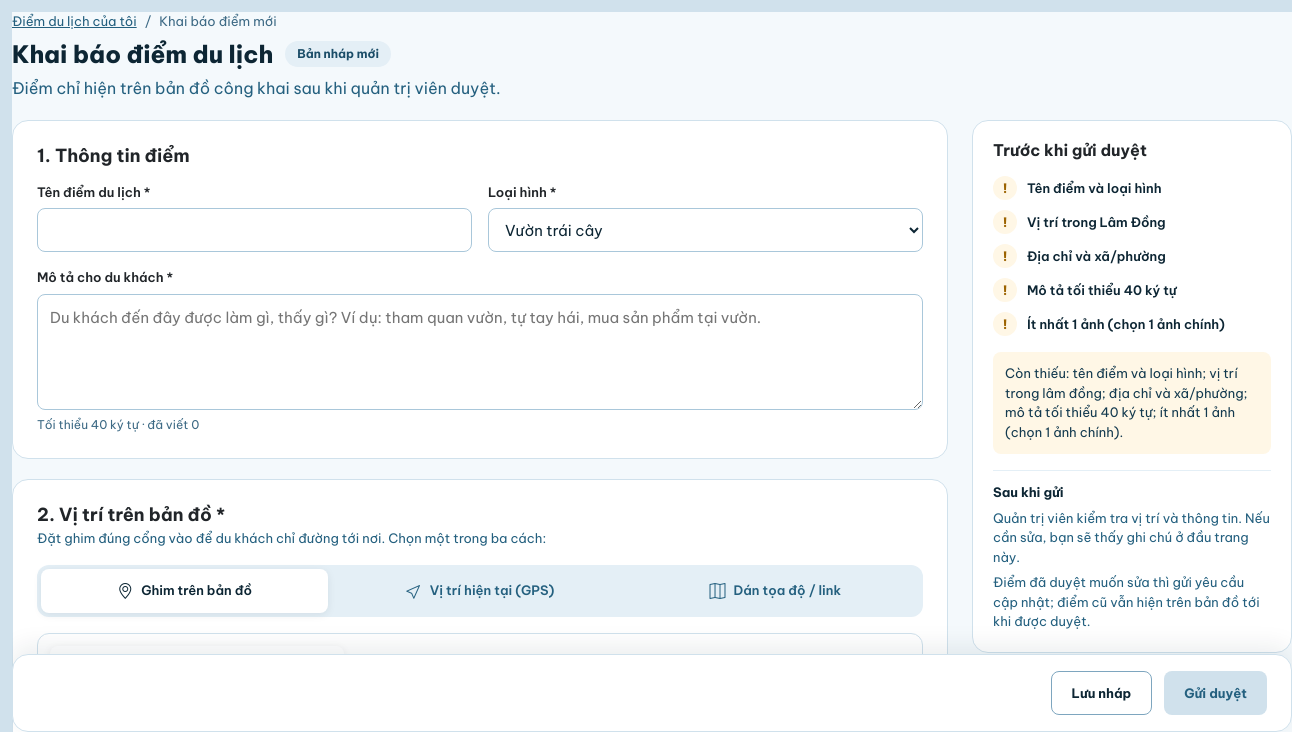
it: SubjectLocationEditorView › tao ban nhap chi voi ten va loai hinh roi chuyen sang dia chi cua ban nhap
Expected: the heading "Khai báo điểm du lịch" is shown, [12,40,273,68]
Click the button "Lưu nháp": [1101, 693] box [1051,671,1152,715]
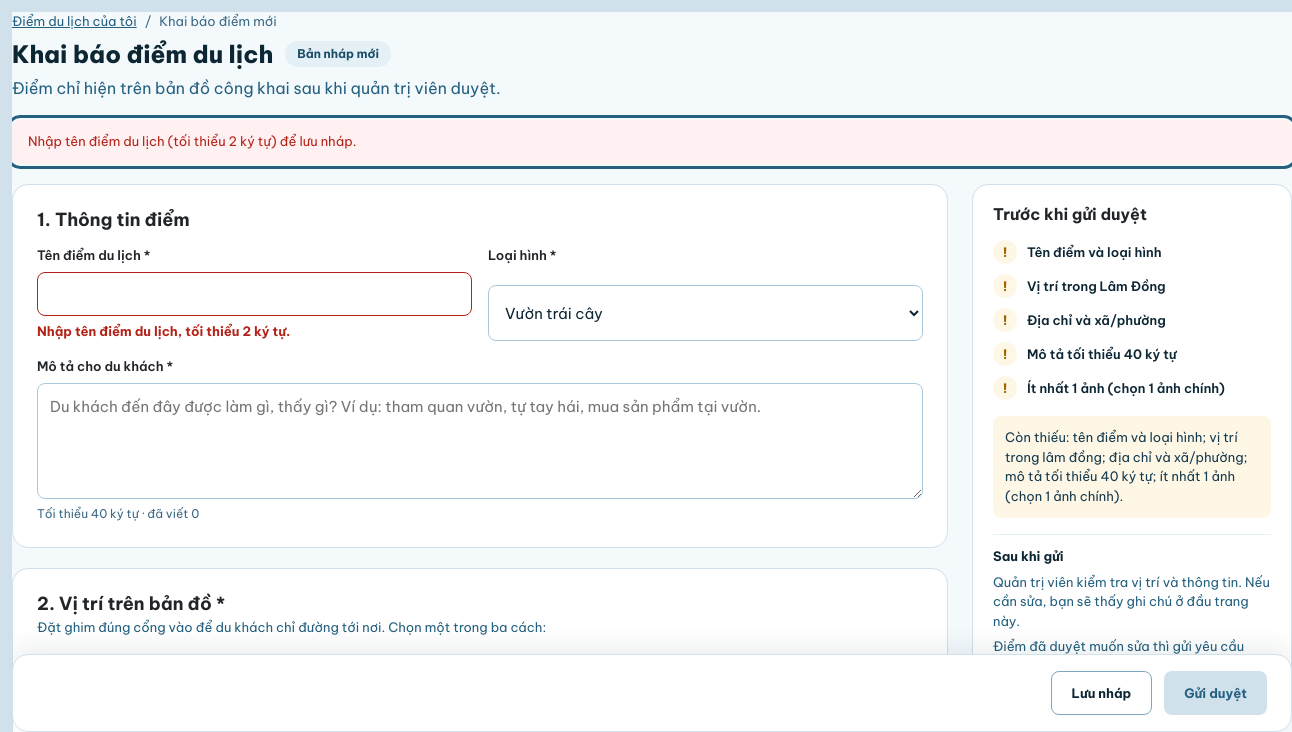
Result: the text "Nhập tên điểm du lịch" is shown at [28,133,356,149]
In the field labelled "Tên điểm du lịch * Nhập tên điểm du lịch, tối thiểu 2 ký tự.": [254, 294] box [37,272,472,316], type "Vườn dâu Langbiang Demo"
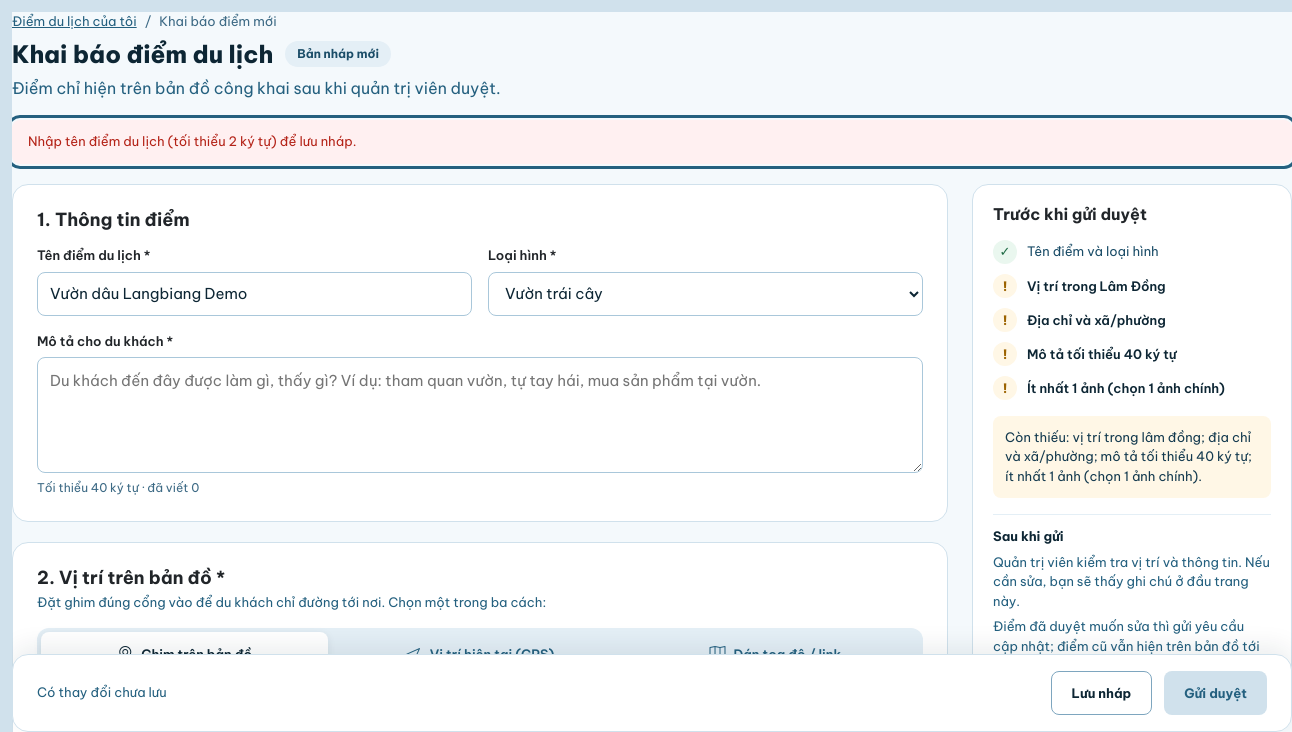
Click the button "Lưu nháp": [1101, 693] box [1051,671,1152,715]
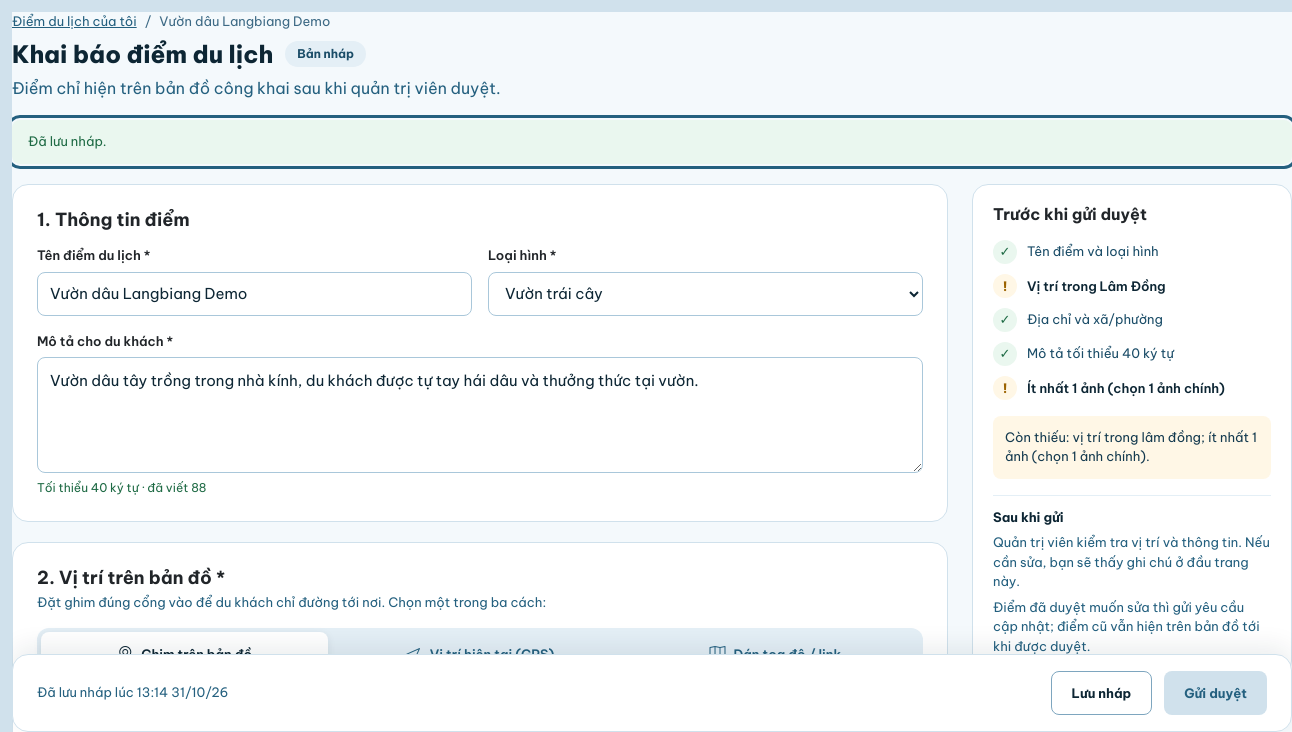
Result: the text "Đã lưu nháp" is shown at [28,133,107,149]
